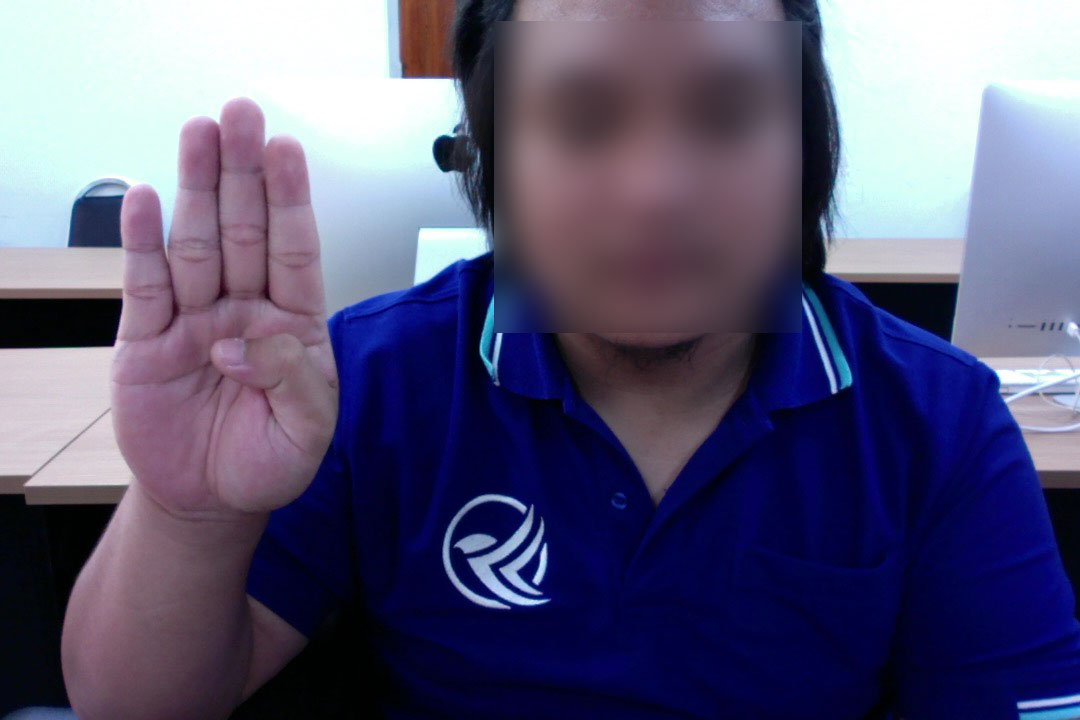bor: (95, 81, 347, 525)
